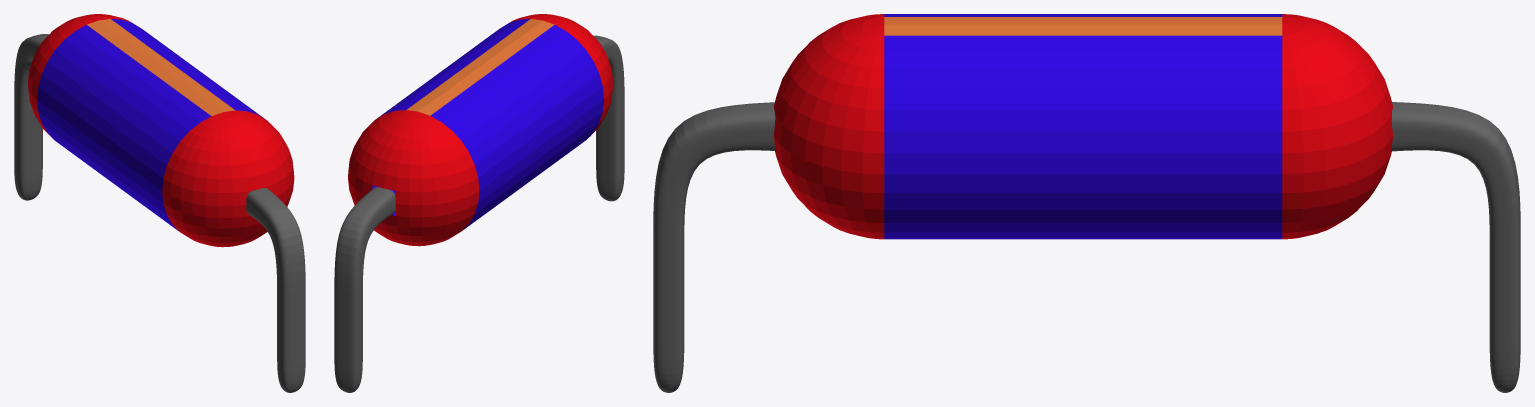
Rendered from Barrel_Blue.fbx.
3 renders of one model, left to right at view 1: azimuth 30°, elevation 25°; view 2: azimuth 150°, elevation 25°; view 3: azimuth 270°, elevation 25°, orthographic. The views are drawn at different scales.
Visible parts, largest first — view 1: Sphere, Sphere.001; view 2: Sphere, Sphere.001; view 3: Sphere, Sphere.001.
Boxes of the visible parts, x1,y1,x2,y2 form: Sphere: (28, 14, 294, 247); Sphere.001: (14, 34, 305, 392); Sphere: (348, 14, 613, 246); Sphere.001: (334, 35, 624, 392); Sphere: (774, 14, 1392, 239); Sphere.001: (653, 102, 1520, 392).
Bounding box in the file's own units: 200 × 359 × 769.
